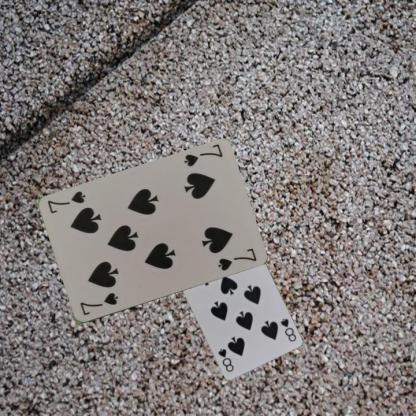7s: (76, 290, 119, 317), (180, 142, 224, 168)
8s: (278, 315, 297, 342)
